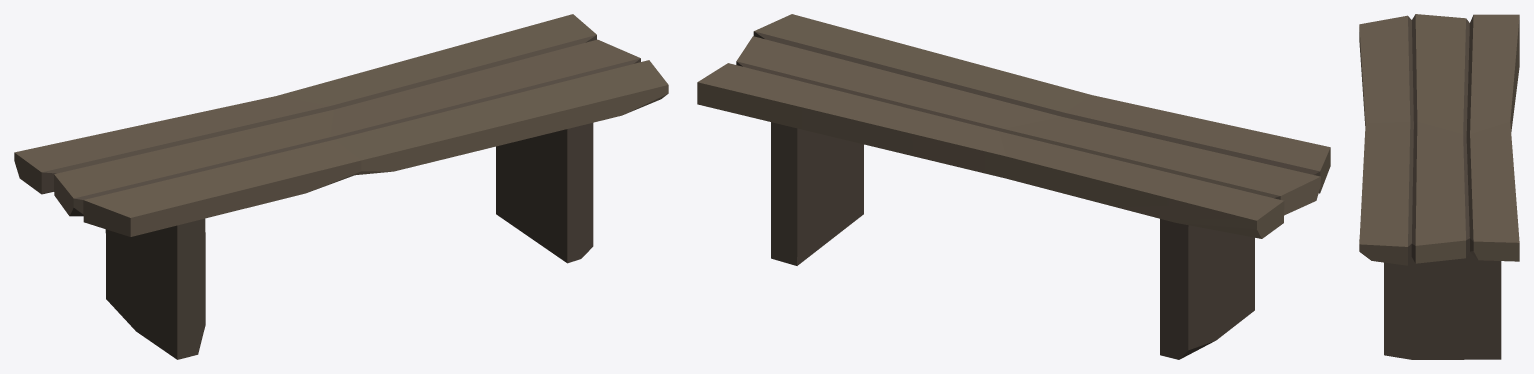
Rendered from SM_Prop_Bench_01.glb.
3 renders of one model, left to right at view 1: azimuth 30°, elevation 25°; view 2: azimuth 150°, elevation 25°; view 3: azimuth 270°, elevation 25°, orthographic. The views are drawn at different scales.
Parts seen in each view (by area): view 1: SM_Prop_Bench_01; view 2: SM_Prop_Bench_01; view 3: SM_Prop_Bench_01.
Part boxes in pixels (x1=…): SM_Prop_Bench_01: x1=14, y1=14, x2=668, y2=359; SM_Prop_Bench_01: x1=697, y1=14, x2=1330, y2=359; SM_Prop_Bench_01: x1=1359, y1=14, x2=1519, y2=359.
Size of the model in its own units: 1.64 by 0.4717 by 0.4738.
Materials: 1 (1 with a texture image).
